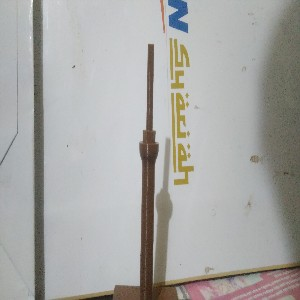obeng: (138, 42, 160, 300)
